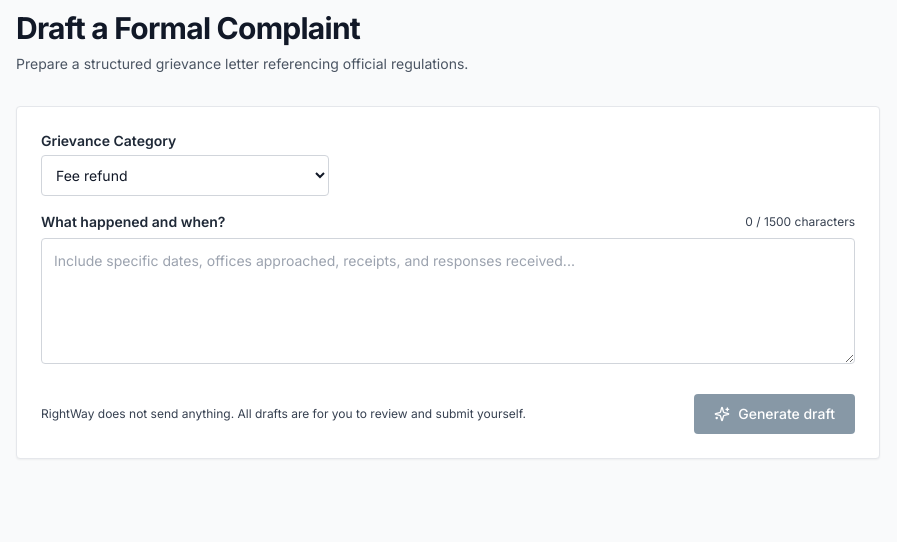
Test: Step 3: Draft Page › handles error and retry in draft generation
Replace the text in the text box labelled "What happened and when?" with "Problem details" at (448,301), box [41,238,855,364]
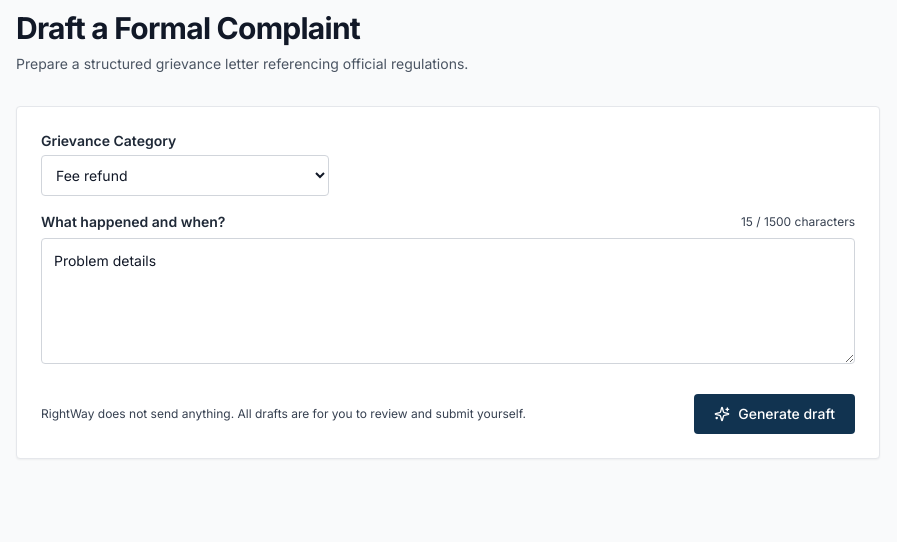
Click the button "Generate draft" at (775,414), box [694,394,855,434]
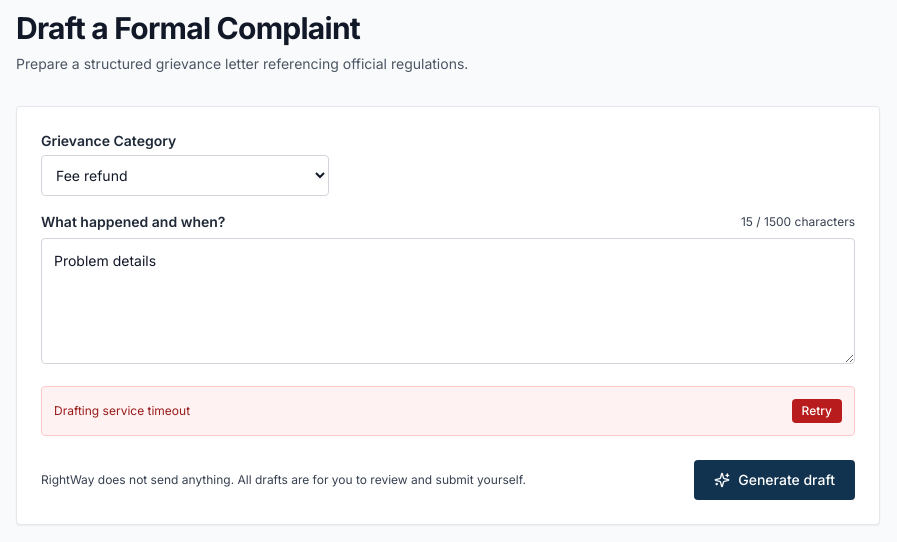
Result: the text "Drafting service timeout" is shown at [54,403,190,419]
Result: the button "Retry" is shown at [792,399,842,423]
